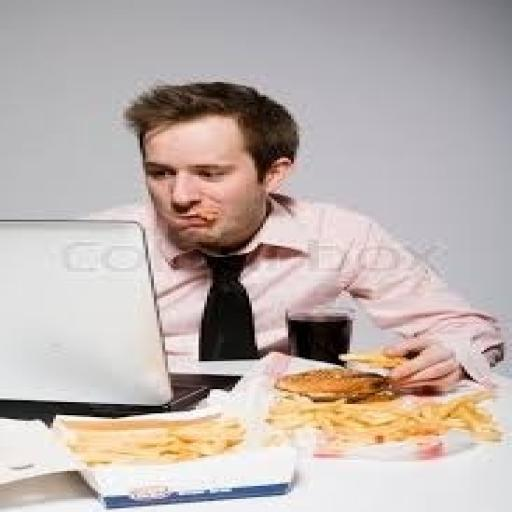eating: (76, 78, 506, 395)
